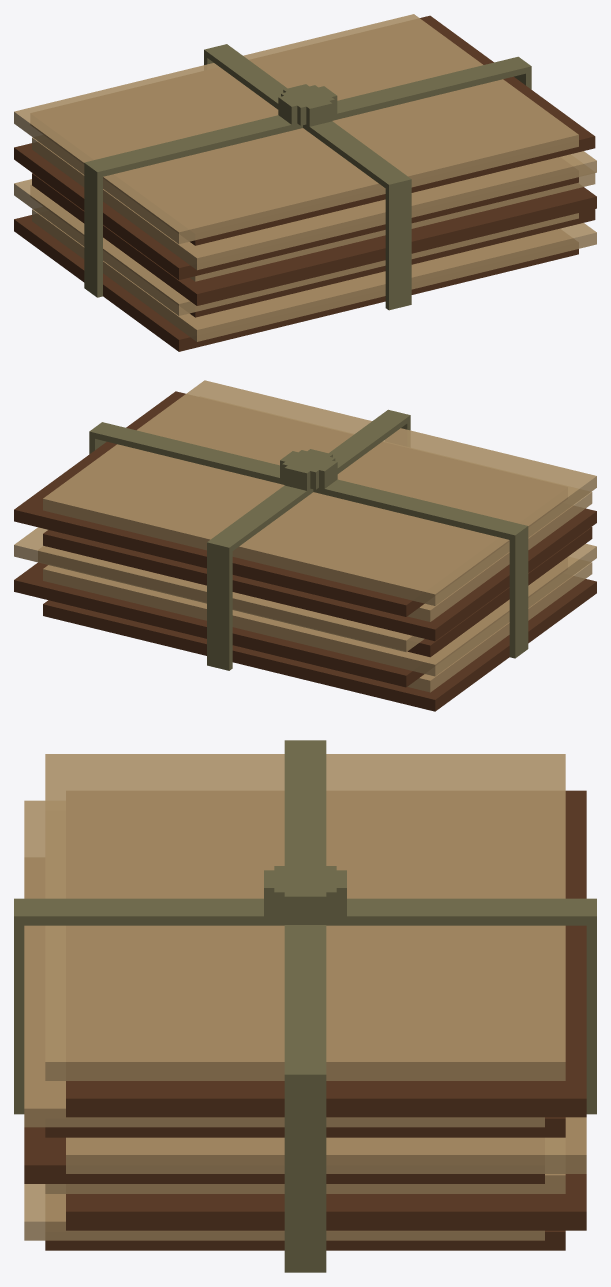
The model's file is bundle_leather.glb.
3 views of the same model, one above another, from view 1: azimuth 30°, elevation 25°; view 2: azimuth 150°, elevation 25°; view 3: azimuth 270°, elevation 25° (orthographic). The views are drawn at different scales.
Parts seen in each view (by area): view 1: bundle_leather:compound; view 2: bundle_leather:compound; view 3: bundle_leather:compound.
Part boxes in pixels (x1=…): bundle_leather:compound: x1=14, y1=14, x2=596, y2=351; bundle_leather:compound: x1=14, y1=380, x2=596, y2=711; bundle_leather:compound: x1=14, y1=740, x2=596, y2=1272.
Bounding box in the file's own units: 0.152 × 0.048 × 0.112.
